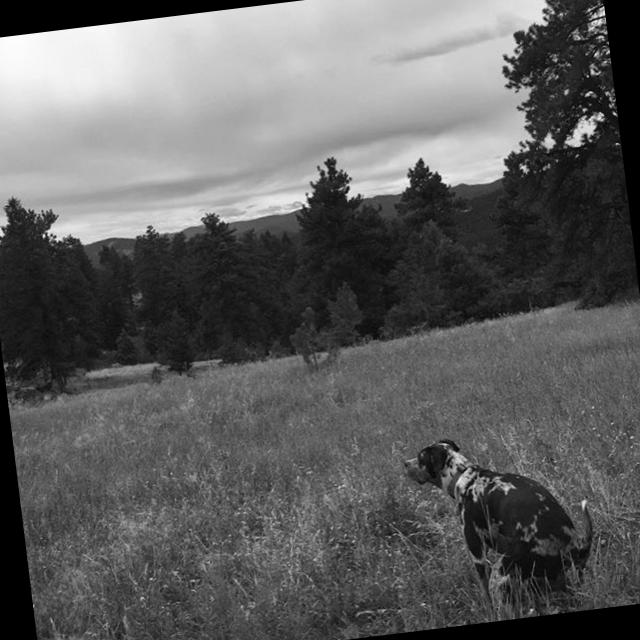squatting: (396, 420, 608, 626)
